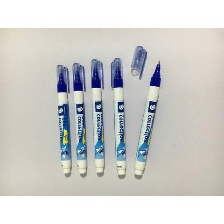correction_fluid: (132, 57, 162, 176), (109, 57, 128, 177), (88, 57, 105, 175), (71, 61, 88, 174), (54, 63, 71, 175)
